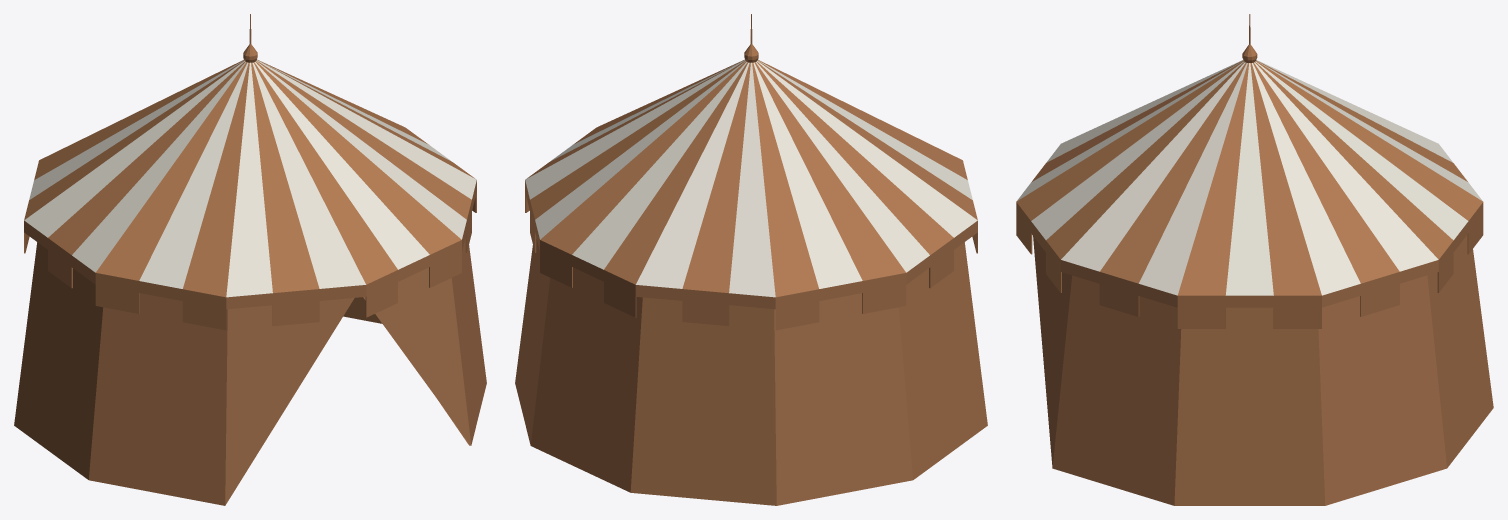
The model's file is SPW_Medieval_Tent_01.glb.
3 views of the same model, side by side, from view 1: azimuth 30°, elevation 25°; view 2: azimuth 150°, elevation 25°; view 3: azimuth 270°, elevation 25° (orthographic).
Visible parts, largest first — view 1: SPW_Medieval_Tent_01; view 2: SPW_Medieval_Tent_01; view 3: SPW_Medieval_Tent_01.
Part boxes in pixels (bbox=[...]): SPW_Medieval_Tent_01: bbox=[14, 14, 486, 505]; SPW_Medieval_Tent_01: bbox=[515, 14, 987, 505]; SPW_Medieval_Tent_01: bbox=[1016, 14, 1493, 505].
Size of the model in its own units: 2.51 by 2.35 by 2.59.
1 material, 1 textured.
